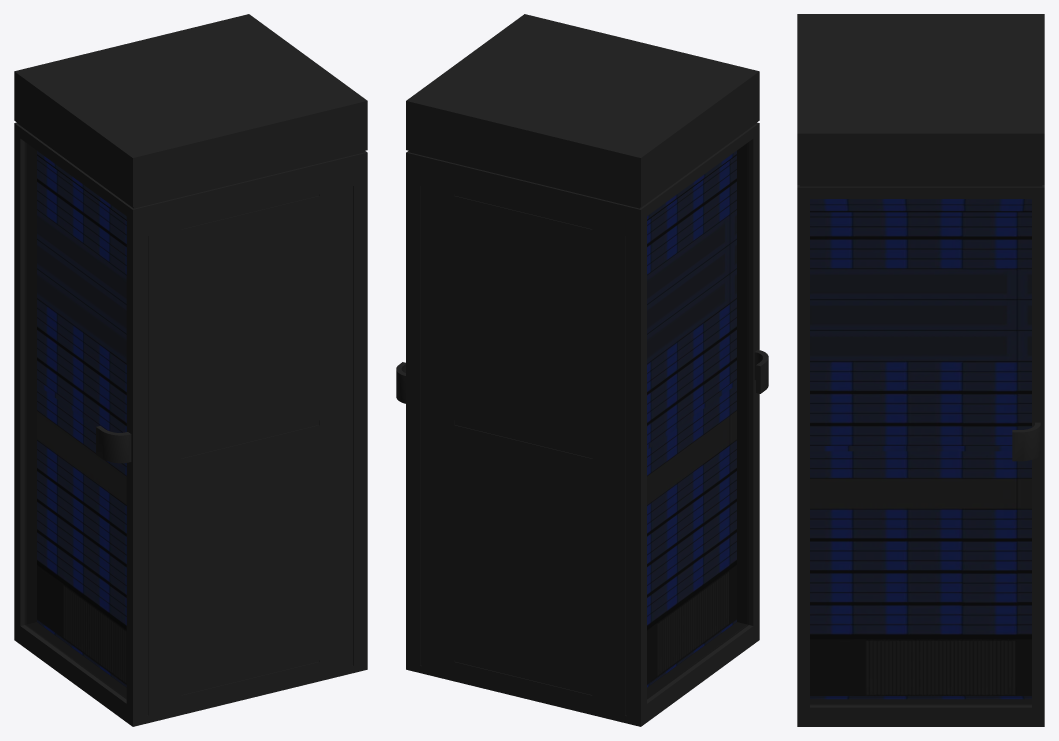
The model's file is data_center_rack.glb.
The picture shows the model from 3 angles, left to right: view 1: azimuth 30°, elevation 25°; view 2: azimuth 150°, elevation 25°; view 3: azimuth 270°, elevation 25°; orthographic projection. The views are drawn at different scales.
Parts seen in each view (by area): view 1: Object_2, Object_4, Object_3, Object_5; view 2: Object_2, Object_4, Object_3, Object_5; view 3: Object_4, Object_3, Object_2, Object_5.
Boxes of the visible parts, x1=… form: Object_2: x1=14, y1=14, x2=367, y2=726; Object_4: x1=25, y1=142, x2=126, y2=698; Object_3: x1=37, y1=151, x2=126, y2=687; Object_5: x1=96, y1=426, x2=131, y2=463; Object_2: x1=406, y1=14, x2=759, y2=726; Object_4: x1=647, y1=142, x2=748, y2=698; Object_3: x1=647, y1=151, x2=736, y2=687; Object_5: x1=396, y1=350, x2=768, y2=403; Object_4: x1=810, y1=199, x2=1031, y2=704; Object_3: x1=810, y1=199, x2=1031, y2=699; Object_2: x1=797, y1=14, x2=1044, y2=726; Object_5: x1=1012, y1=422, x2=1040, y2=461.
Bounding box in the file's own units: 1.16 × 2.31 × 0.875.
3 materials, 1 textured.
